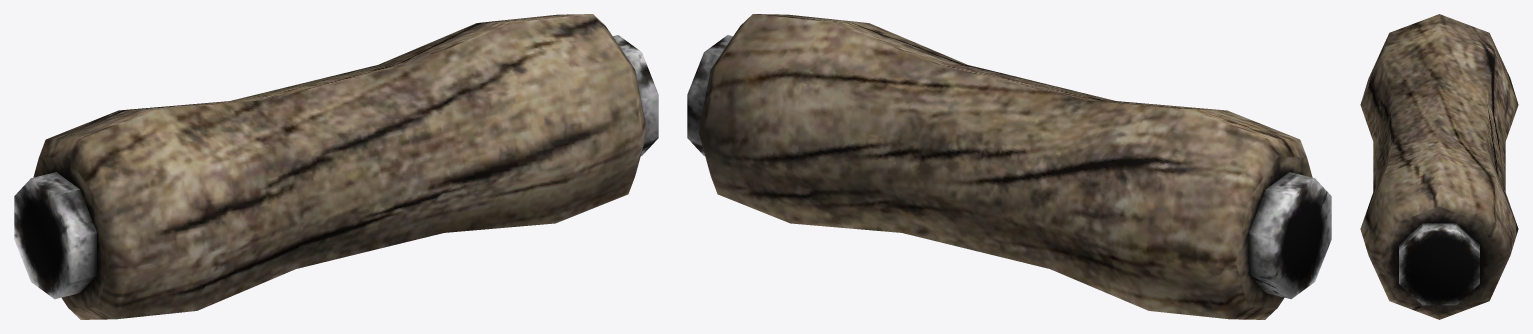
File: hand_drill_part02.dae
3 views of the same model, side by side, from view 1: azimuth 30°, elevation 25°; view 2: azimuth 150°, elevation 25°; view 3: azimuth 270°, elevation 25° (orthographic). The views are drawn at different scales.
Visible parts, largest first — view 1: hand_drill_part02; view 2: hand_drill_part02; view 3: hand_drill_part02.
Boxes of the visible parts, x1=… form: hand_drill_part02: x1=14, y1=14, x2=658, y2=319; hand_drill_part02: x1=687, y1=14, x2=1331, y2=319; hand_drill_part02: x1=1360, y1=14, x2=1518, y2=319.
Size of the model in its own units: 0.197 by 0.0647 by 0.0647.
